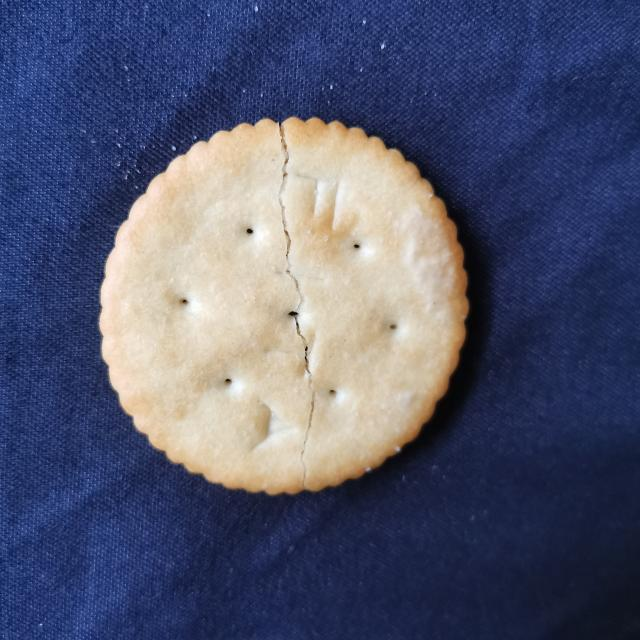Fracture: (259, 115, 322, 498)
